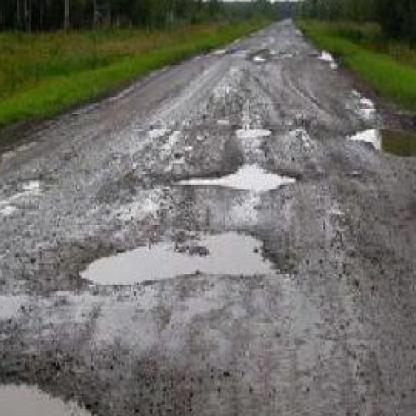pothole: (74, 224, 296, 288), (173, 159, 300, 193), (345, 117, 416, 162), (233, 121, 274, 140), (316, 46, 337, 68)
